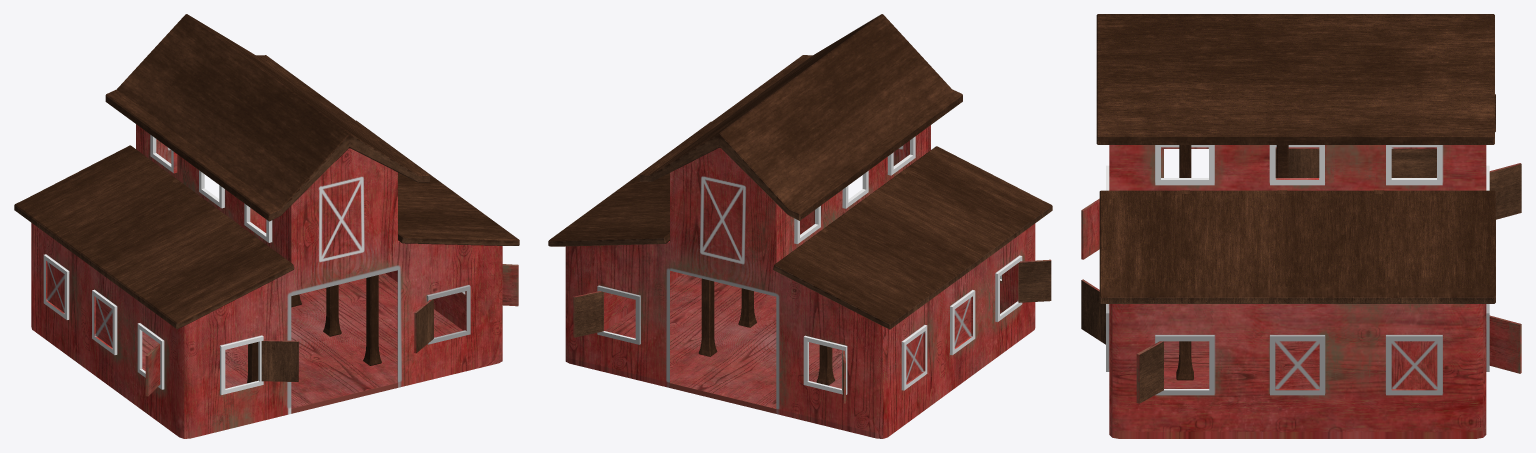
File: Barn.fbx
The picture shows the model from 3 angles, left to right: view 1: azimuth 30°, elevation 25°; view 2: azimuth 150°, elevation 25°; view 3: azimuth 270°, elevation 25°; orthographic projection. The views are drawn at different scales.
Parts seen in each view (by area): view 1: Cube.001; view 2: Cube.001; view 3: Cube.001.
Boxes of the visible parts, left/top/right/bottom form: Cube.001: left=14, top=14, right=519, bottom=438; Cube.001: left=548, top=14, right=1052, bottom=438; Cube.001: left=1081, top=14, right=1521, bottom=438.
Bounding box in the file's own units: 1413 × 981 × 1191.
Materials: 2 (2 with a texture image).
